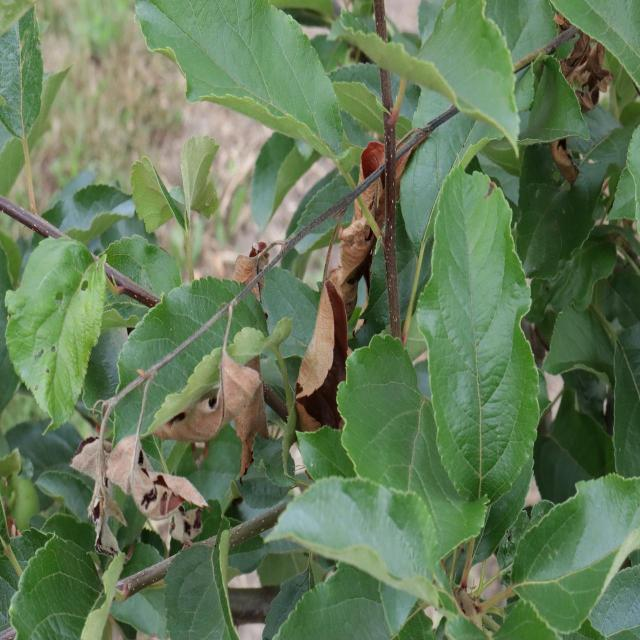-FireBlight-: (72, 139, 431, 551)
